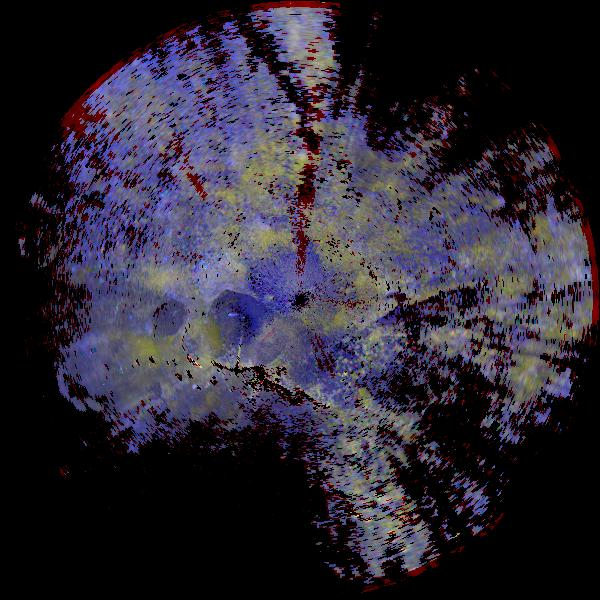roost: (75, 321, 165, 411), (143, 305, 224, 386)
